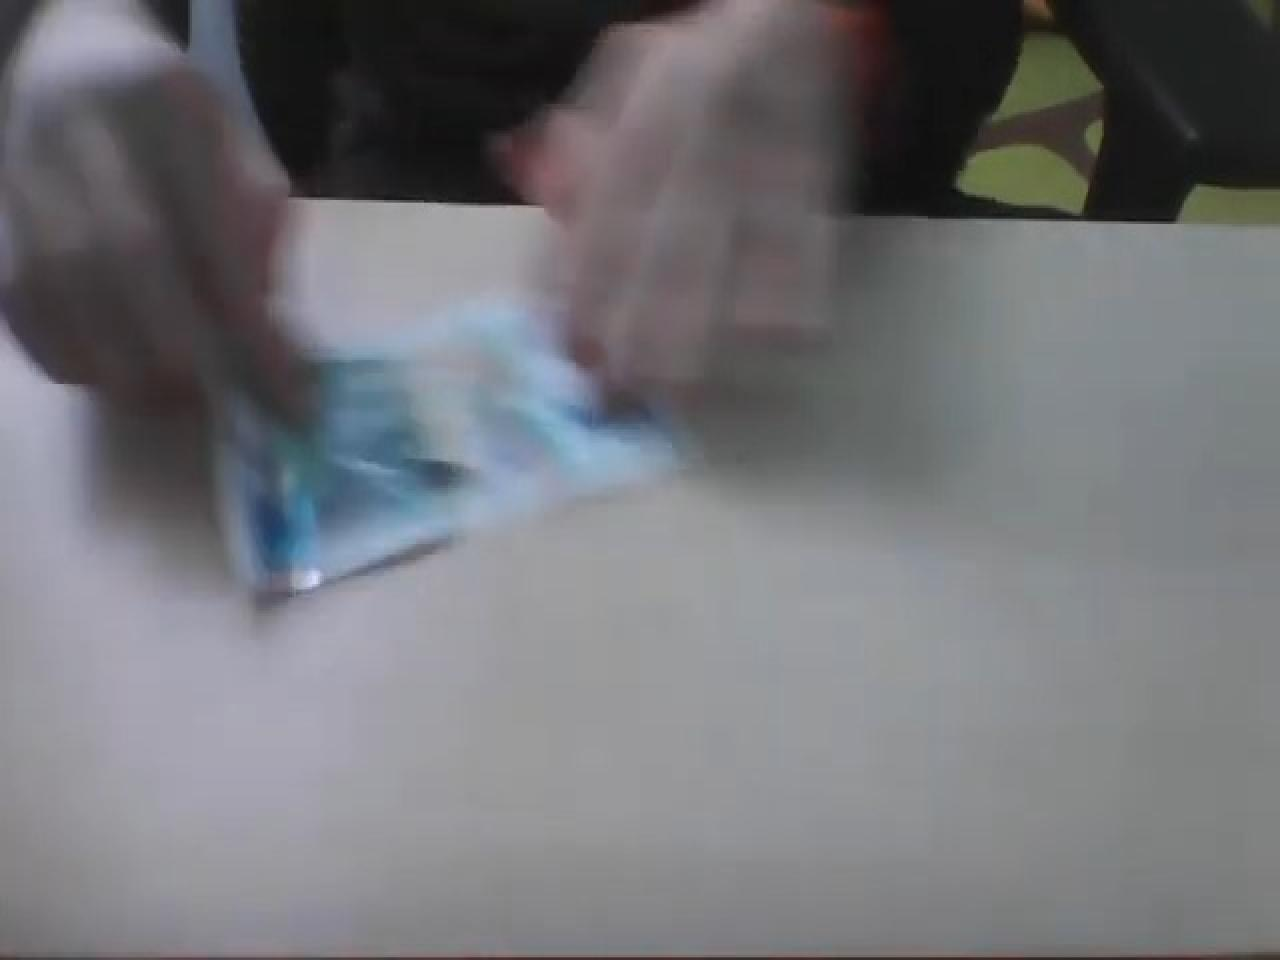100leva: (202, 298, 672, 605)
